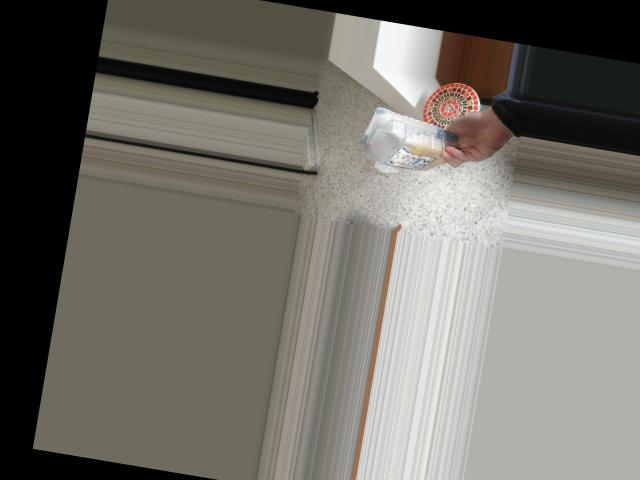cheese: (356, 109, 457, 176)
